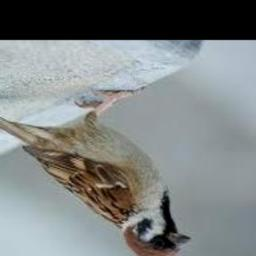Sparrow: (0, 90, 189, 256)
